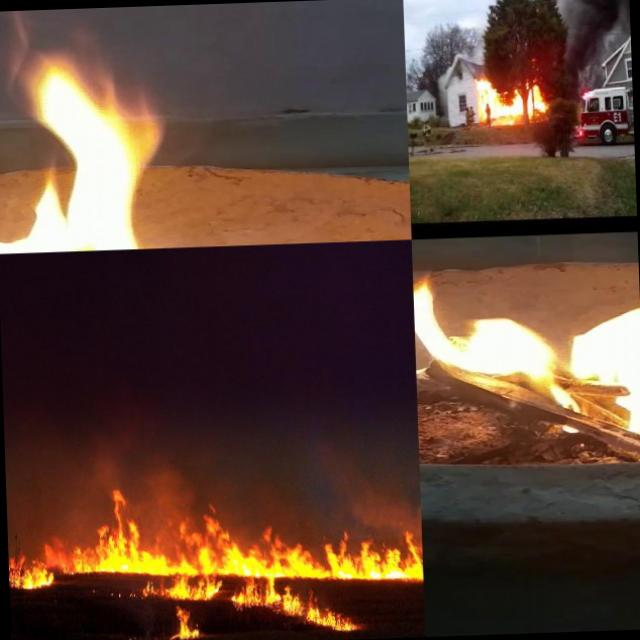fire: (0, 22, 391, 253), (412, 259, 640, 494), (6, 466, 422, 594), (234, 570, 361, 640), (475, 70, 543, 124), (137, 562, 220, 604), (158, 602, 211, 640)
smoke: (546, 0, 631, 59)
